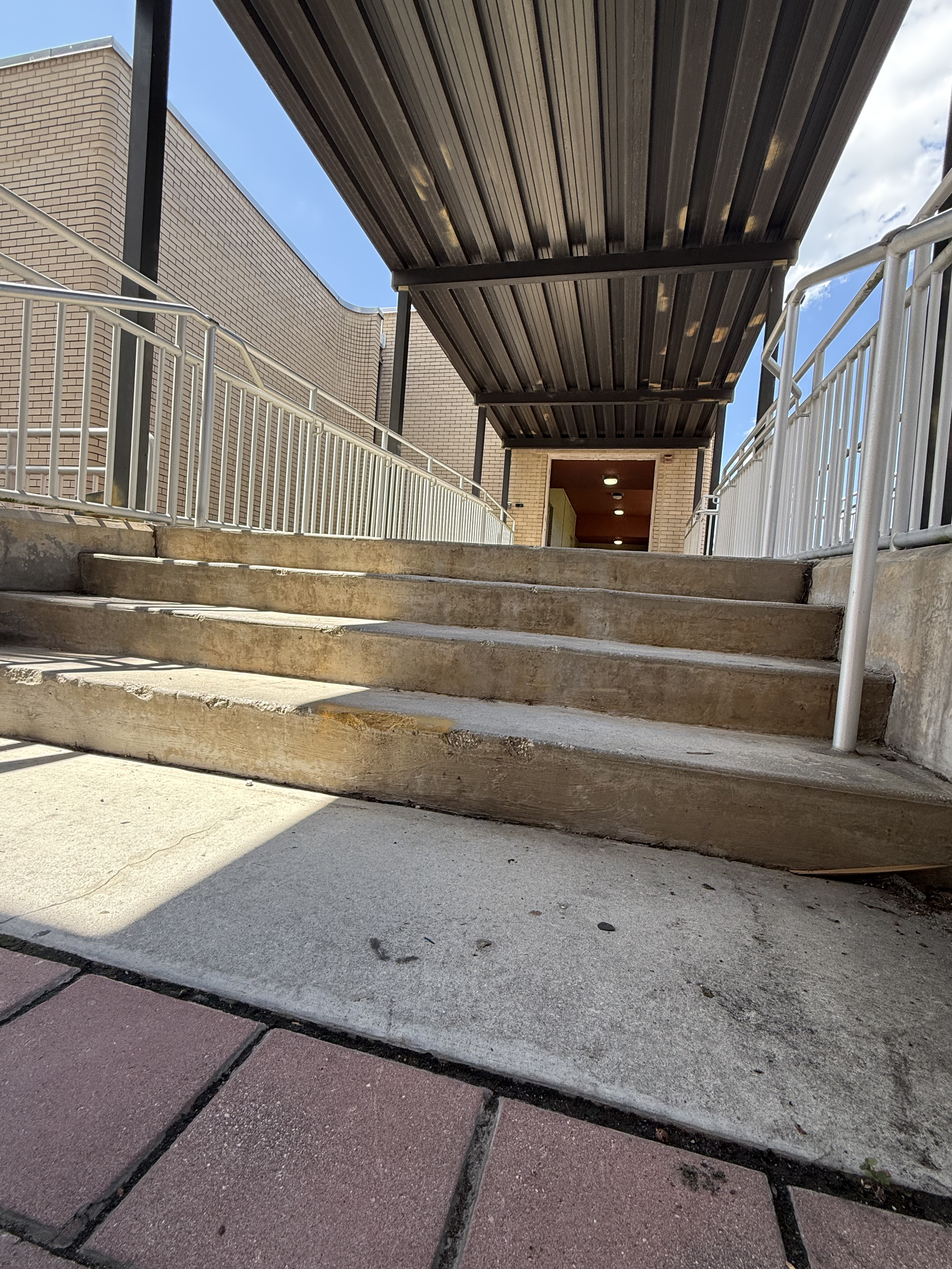stairs: (5, 526, 952, 888)
